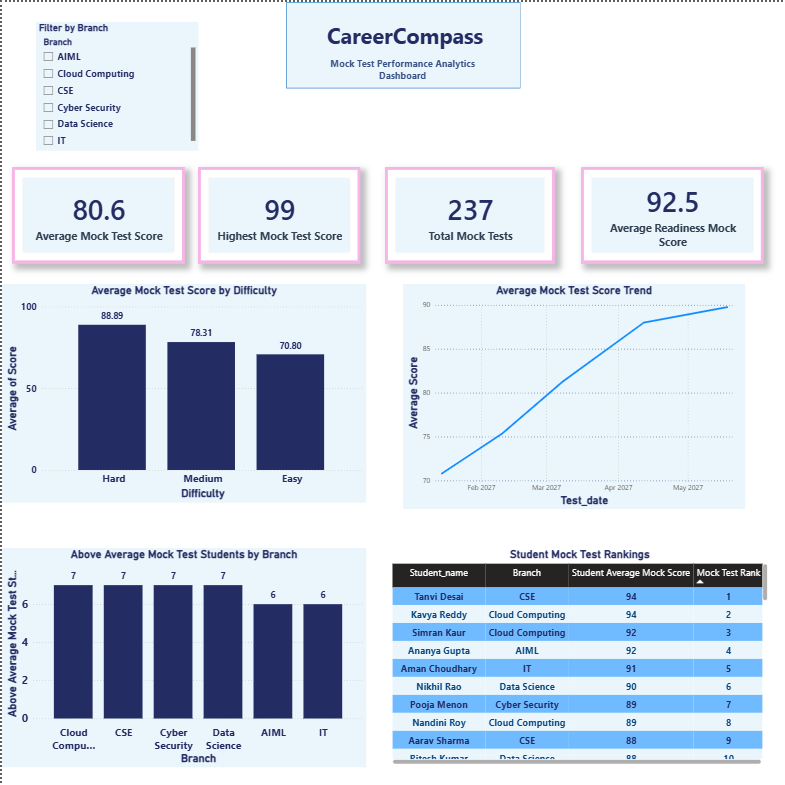

The page's visual inventory and layout, read from the dashboard file:
{"tool":"powerbi","page":{"name":"Mock Test Performance Analytics Dashboard","canvas":[1350,1350],"ordinal":4},"visuals":[{"type":"shape","box":[488.9,0,404.4,148.9],"z":0},{"type":"cardVisual","fields":{"Data":["Avg(career_compass mock_tests.Score)"]},"box":[16.7,285,298.3,166.7],"z":1000},{"type":"cardVisual","fields":{"Data":["CountNonNull(career_compass mock_tests.Mock_id)"]},"box":[660,285,293.3,166.7],"z":2000},{"type":"cardVisual","fields":{"Data":["Max(career_compass mock_tests.Score)"]},"box":[338.3,285,280,166.7],"z":3000},{"type":"cardVisual","fields":{"Data":["Avg(career_compass placement_readiness.Mock_test_score)"]},"box":[998.3,285,315,166.7],"z":4000},{"type":"textbox","box":[555.6,28.3,362.6,144.4],"z":5000},{"type":"textbox","box":[533.3,89.9,316.2,105.1],"z":6000},{"type":"slicer","title":"Filter by Branch","fields":{"Values":["career_compass students.Branch"]},"box":[58.3,35,280,221.7],"z":7000},{"type":"clusteredColumnChart","title":"Average Mock Test Score by Difficulty","fields":{"Category":["career_compass mock_tests.Difficulty"],"Y":["Avg(career_compass mock_tests.Score)"]},"box":[0,486.7,628.3,376.7],"z":8000},{"type":"clusteredColumnChart","title":"Above Average Mock Test Students by Branch","fields":{"Category":["career_compass students.Branch"],"Y":["LeetCode Difficulty.Above Average Mock Test Students"]},"box":[0,942,628,378],"z":9000},{"type":"lineChart","title":"Average Mock Test Score Trend","fields":{"Y":["Avg(career_compass mock_tests.Score)"],"Category":["career_compass mock_tests.Test_date"]},"box":[692,486,590,388],"z":10000},{"type":"tableEx","title":"Student Mock Test Rankings","fields":{"Values":["career_compass students.Student_name","career_compass students.Branch","LeetCode Difficulty.Student Average Mock Score","LeetCode Difficulty.Mock Test Rank"]},"box":[668,942,658,378],"z":11000}]}

Visuals, with their boxes in screenshot pixels (x1, y1, x2, y2), scaled from the page's 1350x1350 canvas onto the 785x785 screenshot:
shape: Rect(284, 0, 519, 87)
cardVisual - Avg(career_compass mock_tests.Score): Rect(10, 166, 183, 263)
cardVisual - CountNonNull(career_compass mock_tests.Mock_id): Rect(384, 166, 554, 263)
cardVisual - Max(career_compass mock_tests.Score): Rect(197, 166, 360, 263)
cardVisual - Avg(career_compass placement_readiness.Mock_test_score): Rect(580, 166, 764, 263)
textbox: Rect(323, 16, 534, 100)
textbox: Rect(310, 52, 494, 113)
"Filter by Branch" slicer: Rect(34, 20, 197, 149)
"Average Mock Test Score by Difficulty" clusteredColumnChart: Rect(0, 283, 365, 502)
"Above Average Mock Test Students by Branch" clusteredColumnChart: Rect(0, 548, 365, 768)
"Average Mock Test Score Trend" lineChart: Rect(402, 283, 745, 508)
"Student Mock Test Rankings" tableEx: Rect(388, 548, 771, 768)
